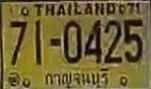0: (63, 20, 81, 62)
1: (34, 20, 40, 65)
2: (104, 20, 121, 63)
4: (84, 19, 101, 62)
5: (123, 18, 142, 62)
7: (10, 20, 26, 65)
KRI: (43, 66, 111, 89)
